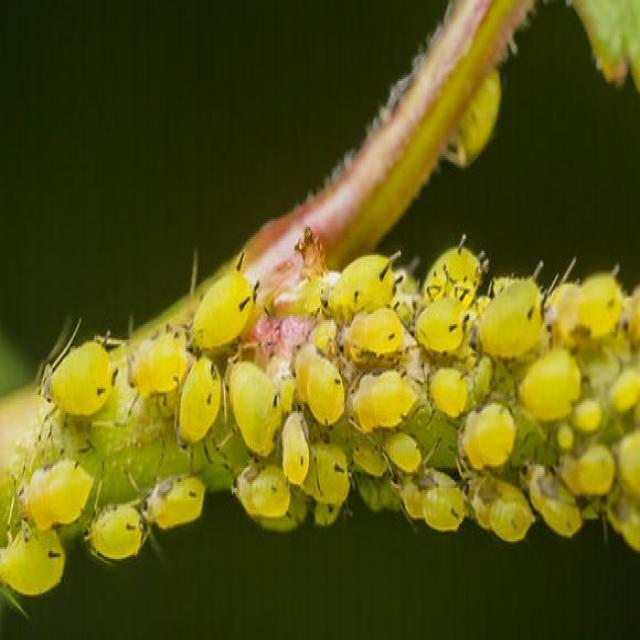Aphid-Grouped-: (24, 242, 620, 579)
Aphid-Grown-: (12, 427, 98, 532), (31, 330, 121, 425), (185, 260, 261, 358), (512, 346, 588, 435), (222, 354, 285, 460), (346, 358, 423, 440), (319, 248, 409, 318), (288, 332, 350, 432), (400, 461, 466, 550), (138, 463, 214, 538), (450, 393, 516, 479), (174, 357, 228, 461), (80, 494, 152, 568), (1, 524, 67, 600), (407, 289, 471, 363), (227, 454, 292, 526), (125, 334, 191, 404), (339, 300, 411, 363)
